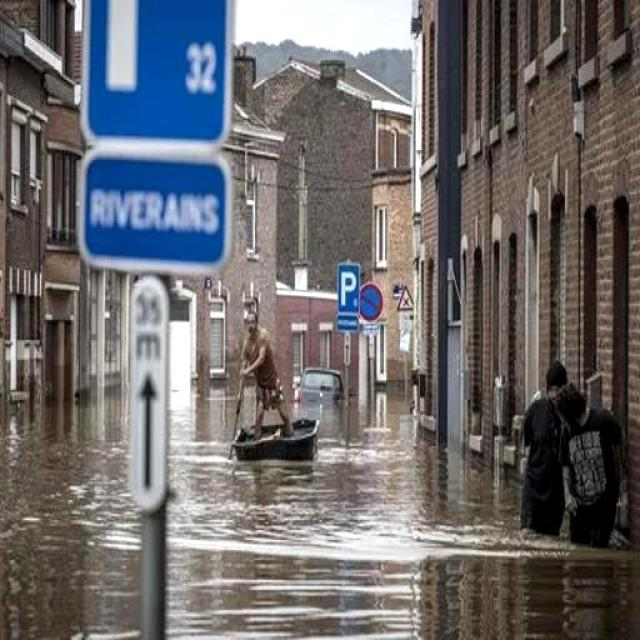civilian: (556, 374, 626, 563), (514, 349, 572, 557), (231, 300, 306, 443)
